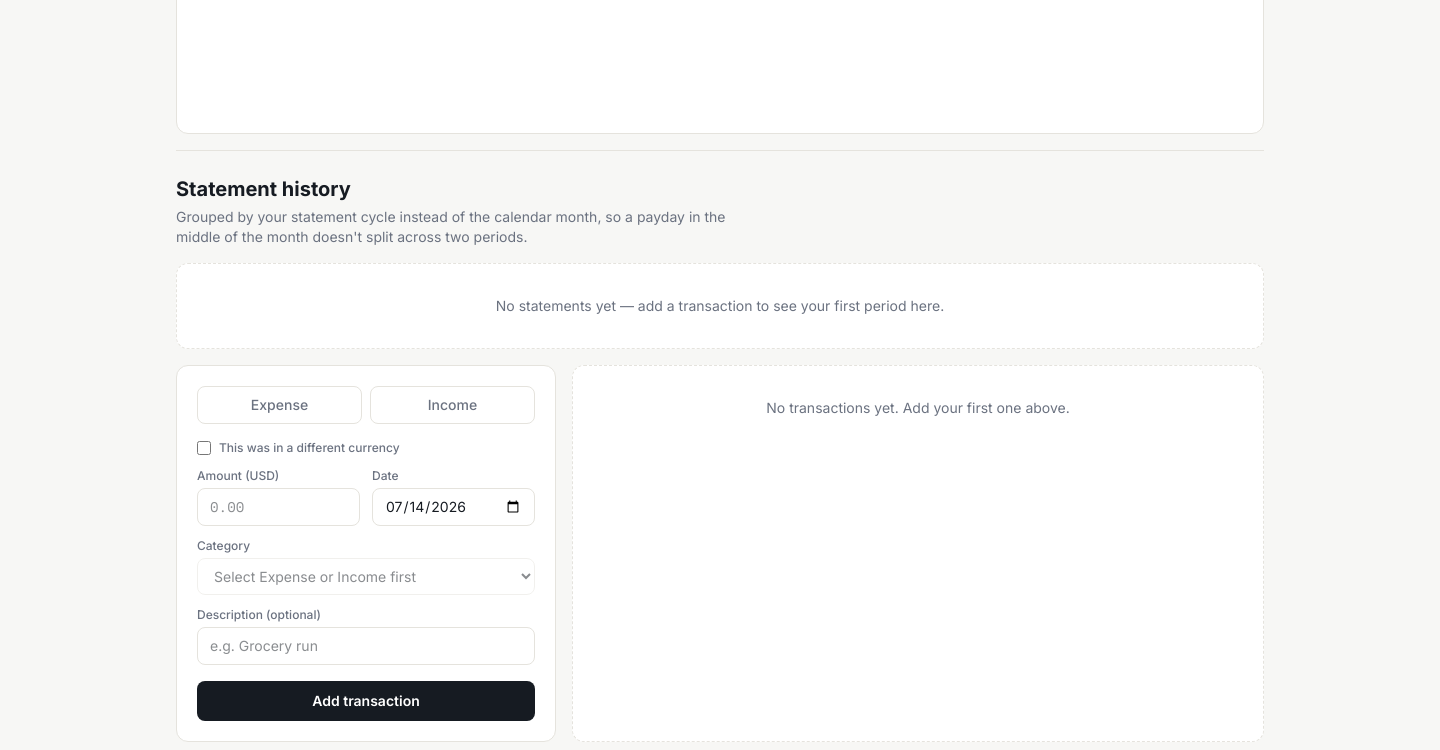
it: App — statement history › shows a statement card once a transaction is added, defaulting to the calendar month
This screenshot has width=1440, height=750.
(page scrolled)
Click the button "Income" at [452, 405], box [370,386,535,424]
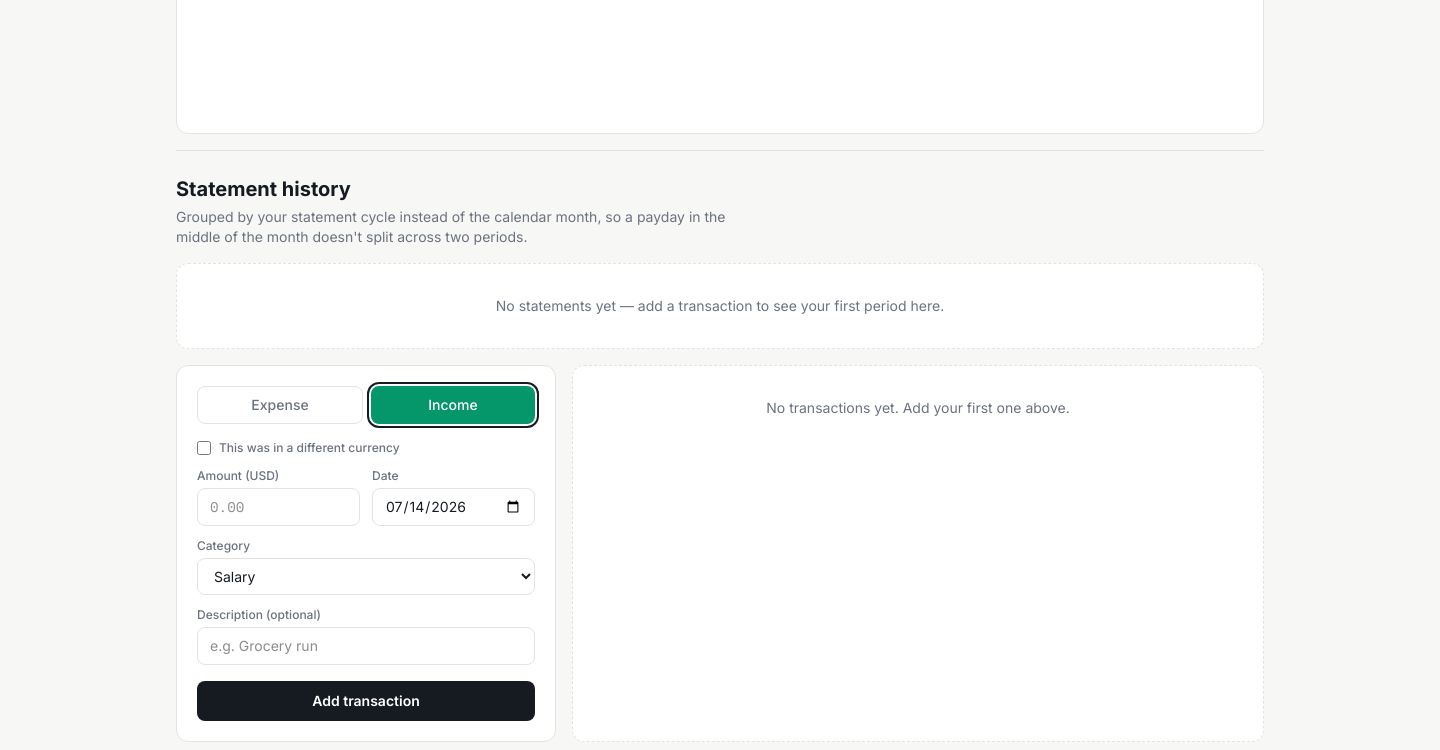
Type "1000" into the number field labelled "Amount (USD)" at [278, 507], box [197,488,360,526]
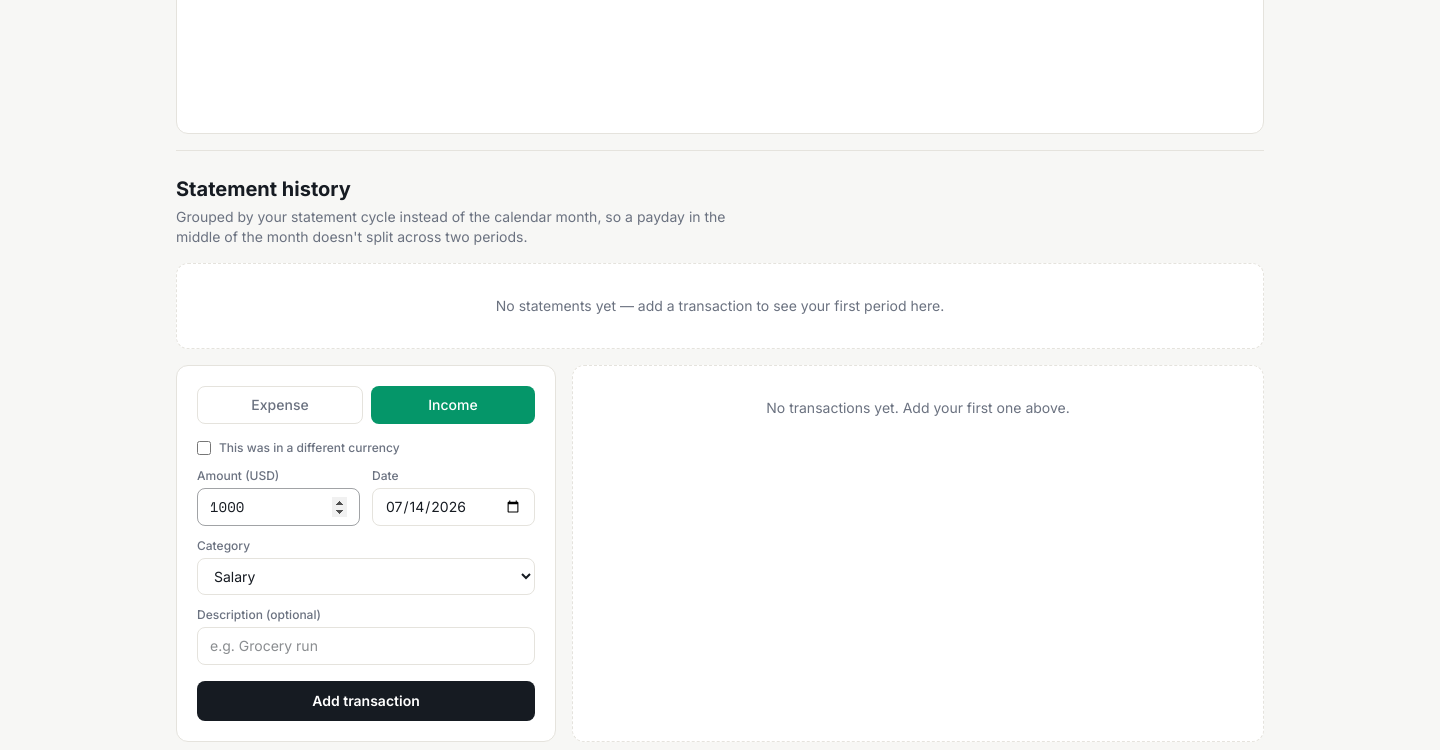
Click the button "Add transaction" at [366, 701], box [197,681,535,721]
(page scrolled)
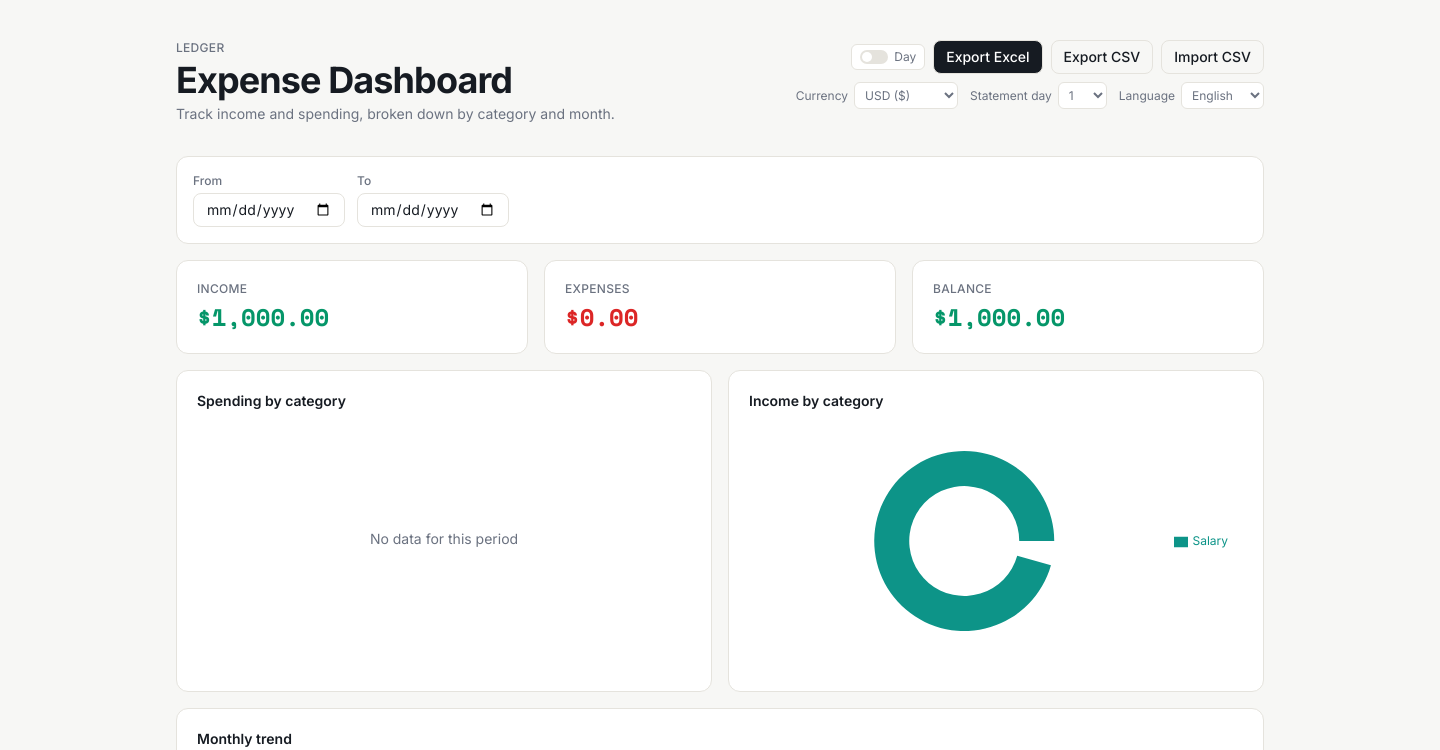
Expected: the text "No statements yet" is gone
Expected: the 1st text "$1,000.00" is shown, [197,299,329,335]
